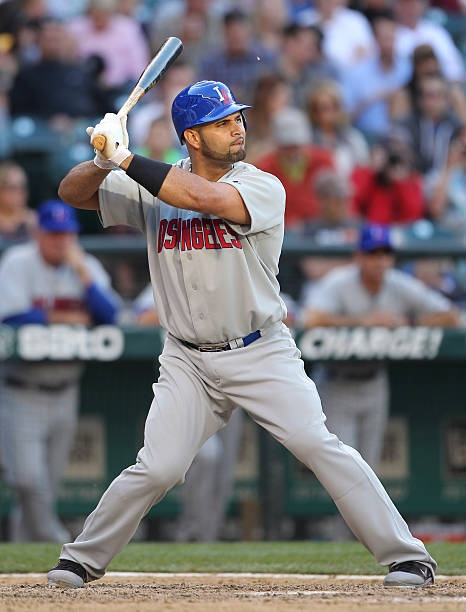bita: (104, 36, 183, 134)
